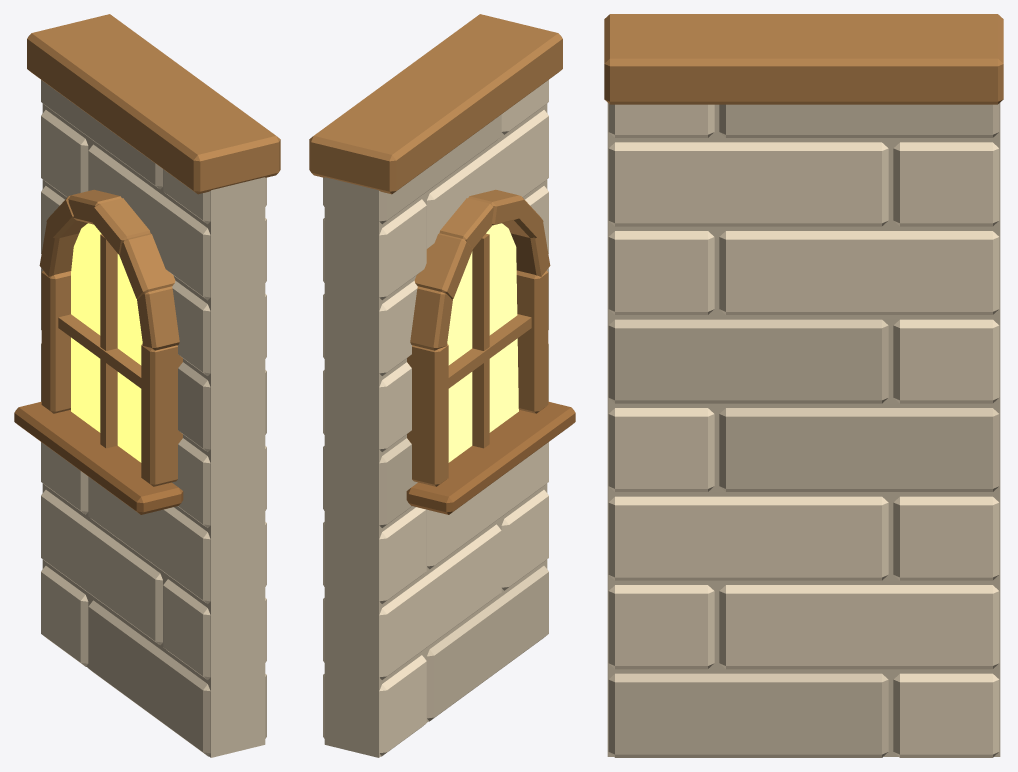
The model's file is mod_wall_curved_r2.52_n16_window.glb.
The picture shows the model from 3 angles, left to right: view 1: azimuth 30°, elevation 25°; view 2: azimuth 150°, elevation 25°; view 3: azimuth 270°, elevation 25°; orthographic projection. The views are drawn at different scales.
Visible parts, largest first — view 1: mod_wall_curved_r2.52_n16_window; view 2: mod_wall_curved_r2.52_n16_window; view 3: mod_wall_curved_r2.52_n16_window.
Part boxes in pixels (left/top/right/bottom): mod_wall_curved_r2.52_n16_window: left=14, top=14, right=280, bottom=757; mod_wall_curved_r2.52_n16_window: left=309, top=14, right=575, bottom=757; mod_wall_curved_r2.52_n16_window: left=604, top=14, right=1003, bottom=757.
Size of the model in its own units: 0.42 by 2 by 1.02.
